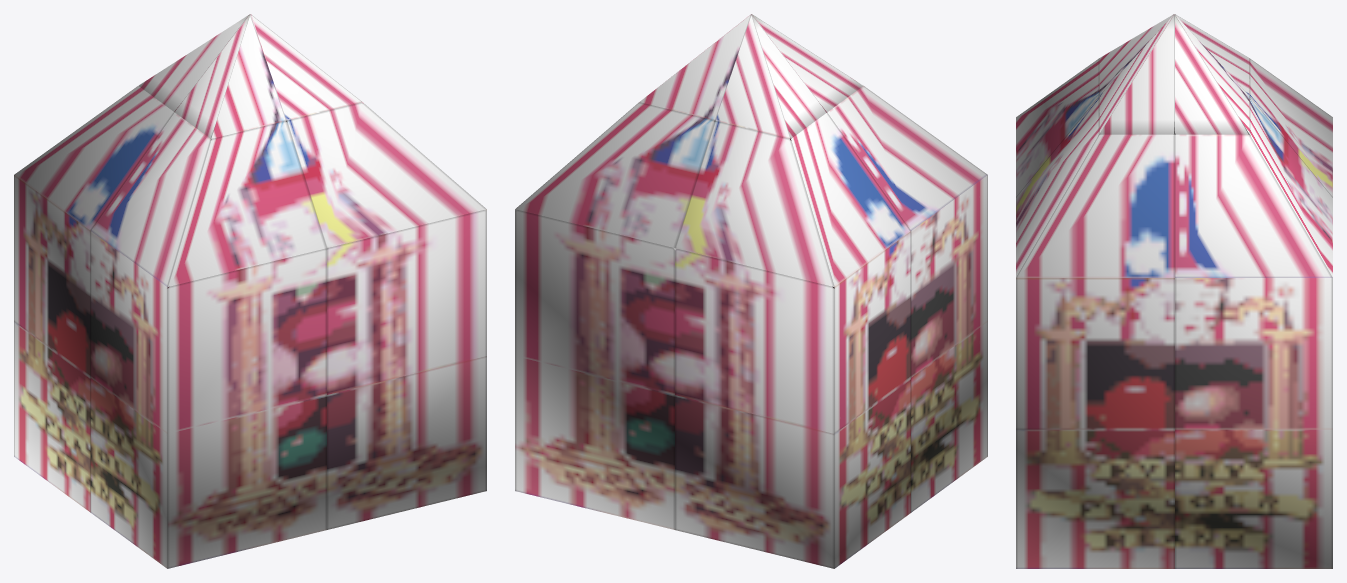
The picture shows the model from 3 angles, left to right: view 1: azimuth 30°, elevation 25°; view 2: azimuth 150°, elevation 25°; view 3: azimuth 270°, elevation 25°; orthographic projection. The views are drawn at different scales.
Visible parts, largest first — view 1: T1L2M002_20; view 2: T1L2M002_20; view 3: T1L2M002_20.
Part boxes in pixels (box(x1,y1,x2,y2)): T1L2M002_20: box(14, 14, 486, 568); T1L2M002_20: box(515, 14, 987, 568); T1L2M002_20: box(1016, 14, 1332, 568).
Size of the model in its own units: 0.4424 by 0.6084 by 0.3682.
